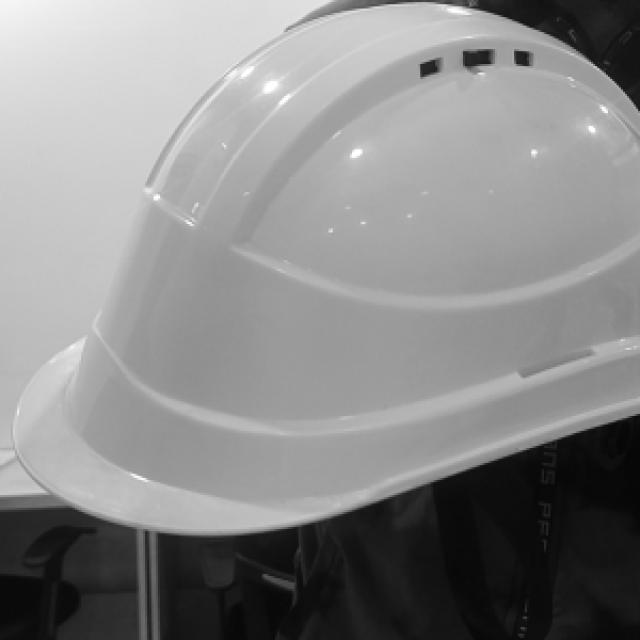safety_helmet: (13, 3, 640, 537)
